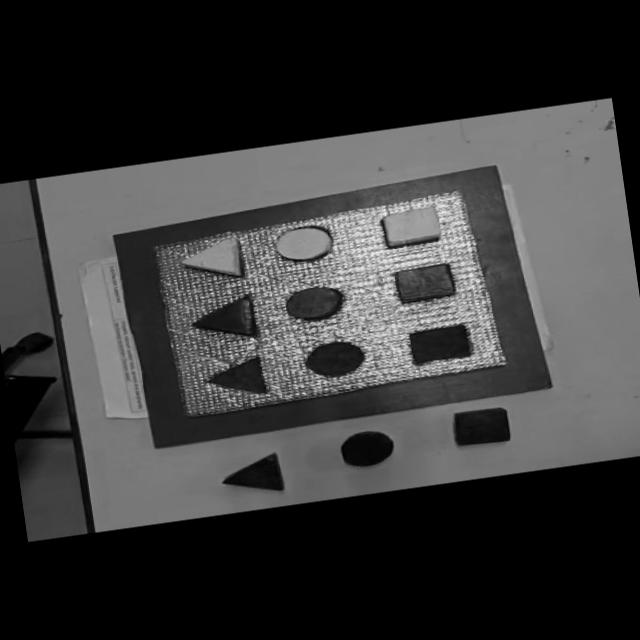bcircle: (337, 426, 398, 471)
bcube: (448, 404, 514, 450)
btriangle: (218, 452, 286, 500)
mtcircle: (303, 338, 368, 382)
mtcube: (405, 322, 474, 368)
mttriangle: (202, 356, 270, 402)
rcircle: (282, 284, 346, 325)
rcube: (392, 263, 457, 305)
rtriangle: (190, 297, 258, 344)
wb: (150, 186, 509, 419)
ycircle: (273, 223, 336, 266)
ycube: (378, 204, 444, 250)
ytriangle: (177, 236, 246, 286)
